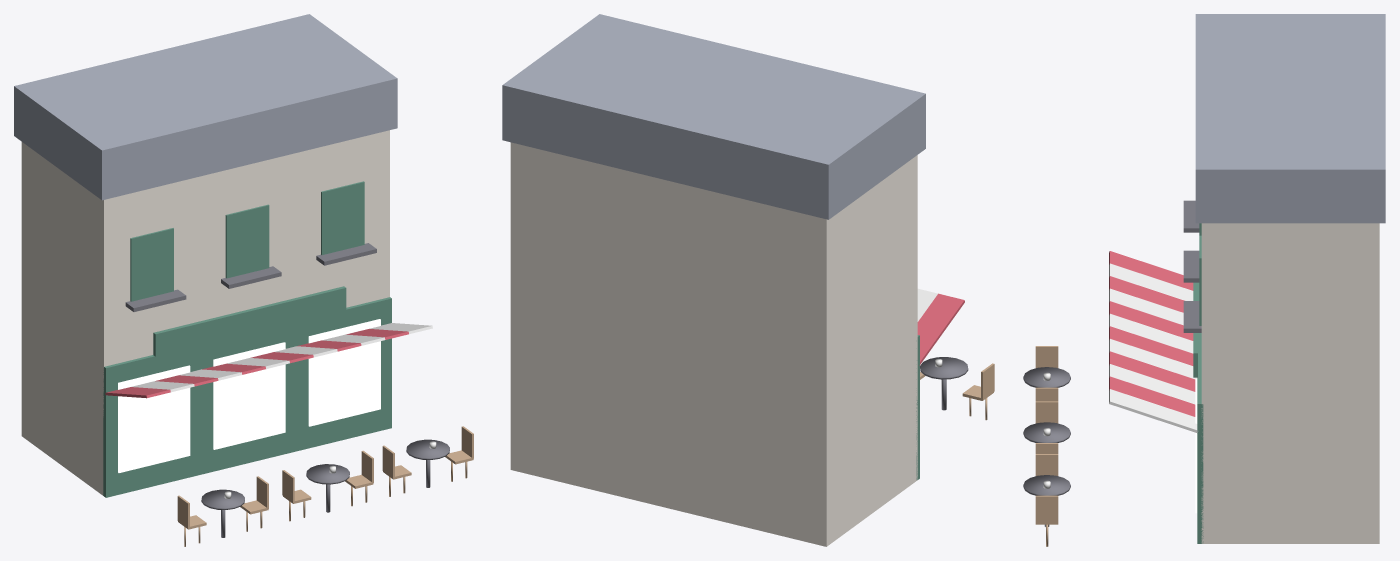
File: cafe.glb
The picture shows the model from 3 angles, left to right: view 1: azimuth 30°, elevation 25°; view 2: azimuth 150°, elevation 25°; view 3: azimuth 270°, elevation 25°; orthographic projection. The views are drawn at different scales.
Parts seen in each view (by area): view 1: Building, Mansard, Shopfront, Window0, Window1, Window2, SignBoard, Upper1, Upper2, Upper0, TableTop1, TableTop0 (+4 smaller); view 2: Building, Mansard, Awning0, TableTop0; view 3: Building, Mansard, Awning11, Shopfront, Awning10, Awning8, Awning9, Awning7, Awning5, Awning6, Awning1, Awning0 (+13 smaller).
Part boxes in pixels (bbox=[...]): Building: bbox=[21, 130, 389, 495]; Mansard: bbox=[14, 14, 397, 200]; Shopfront: bbox=[103, 297, 391, 497]; Window0: bbox=[118, 365, 190, 472]; Window1: bbox=[213, 342, 285, 449]; Window2: bbox=[308, 319, 380, 426]; SignBoard: bbox=[153, 286, 346, 356]; Upper1: bbox=[225, 204, 269, 278]; Upper2: bbox=[321, 181, 364, 254]; Upper0: bbox=[130, 228, 173, 301]; TableTop1: bbox=[306, 464, 349, 484]; TableTop0: bbox=[201, 489, 244, 509]; Building: bbox=[510, 142, 917, 546]; Mansard: bbox=[502, 14, 925, 219]; Awning0: bbox=[917, 293, 964, 365]; TableTop0: bbox=[920, 357, 968, 379]; Building: bbox=[1201, 223, 1379, 543]; Mansard: bbox=[1195, 14, 1385, 223]; Awning11: bbox=[1109, 389, 1198, 432]; Shopfront: bbox=[1197, 282, 1203, 543]; Awning10: bbox=[1109, 376, 1195, 416]; Awning8: bbox=[1109, 351, 1195, 391]; Awning9: bbox=[1109, 364, 1195, 404]; Awning7: bbox=[1109, 339, 1197, 379]; Awning5: bbox=[1109, 313, 1193, 353]; Awning6: bbox=[1109, 326, 1193, 365]; Awning1: bbox=[1109, 263, 1193, 300]; Awning0: bbox=[1109, 251, 1193, 290].
Size of the model in its own units: 6.25 by 7 by 6.1.
